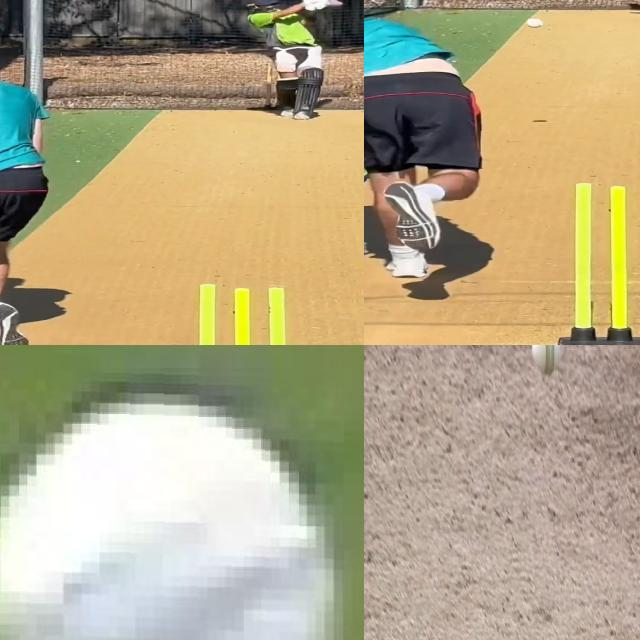Cricket ball: (0, 363, 343, 640), (531, 345, 562, 378), (523, 17, 547, 29)
Stumps: (557, 182, 640, 345), (175, 280, 307, 345)
